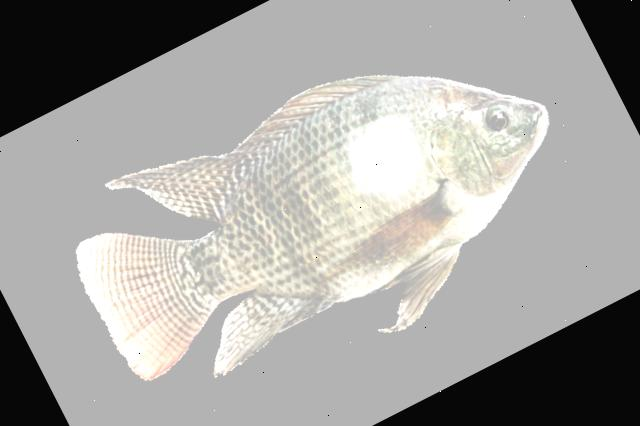Fungal Disease -Saprolegniasis-: (76, 76, 549, 380)
